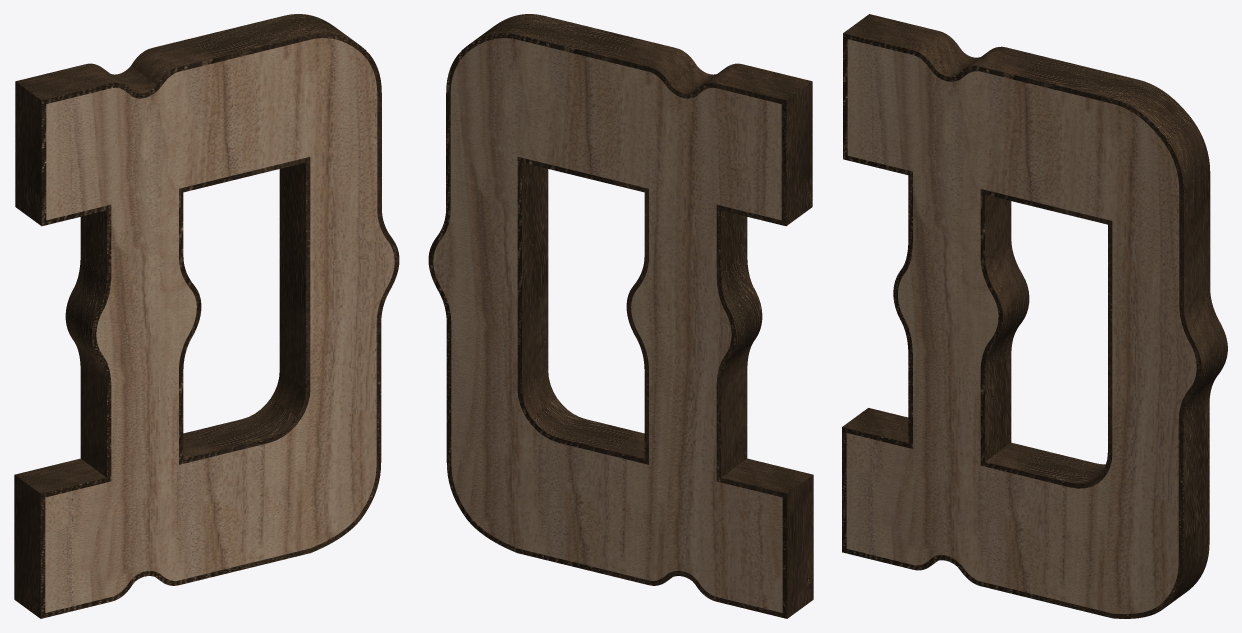
3 renders of one model, left to right at view 1: azimuth 30°, elevation 25°; view 2: azimuth 150°, elevation 25°; view 3: azimuth 330°, elevation 25°, orthographic.
Visible parts, largest first — view 1: D, D_outline; view 2: D, D_outline; view 3: D, D_outline.
Boxes of the visible parts, x1,y1,x2,y2 form: D: (45,38,394,612); D_outline: (14,14,399,618); D: (433,38,782,612); D_outline: (428,14,813,618); D: (846,39,1196,613); D_outline: (842,14,1227,618).
Size of the model in its own units: 78.93 by 109 by 10.
Materials: 2 (2 with a texture image).
